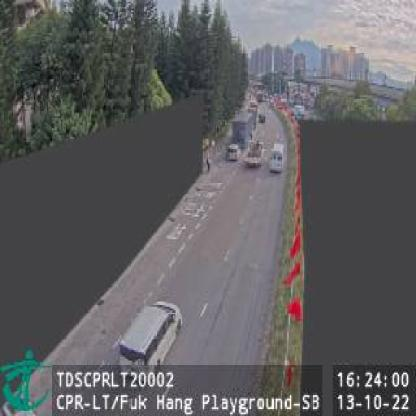Bus: (269, 142, 284, 175)
Car: (118, 299, 180, 369), (227, 142, 241, 161)
Truck: (231, 110, 255, 146), (244, 138, 265, 171)
